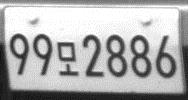2: (82, 33, 106, 78)
6: (154, 33, 176, 78)
8: (130, 33, 152, 78), (106, 33, 128, 77)
9: (8, 32, 30, 75), (32, 32, 53, 75)
모: (56, 41, 80, 77)
